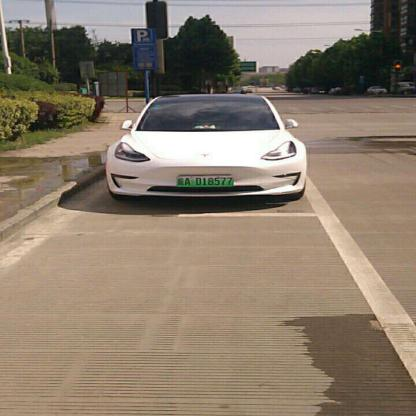lp: (176, 174, 235, 186)
